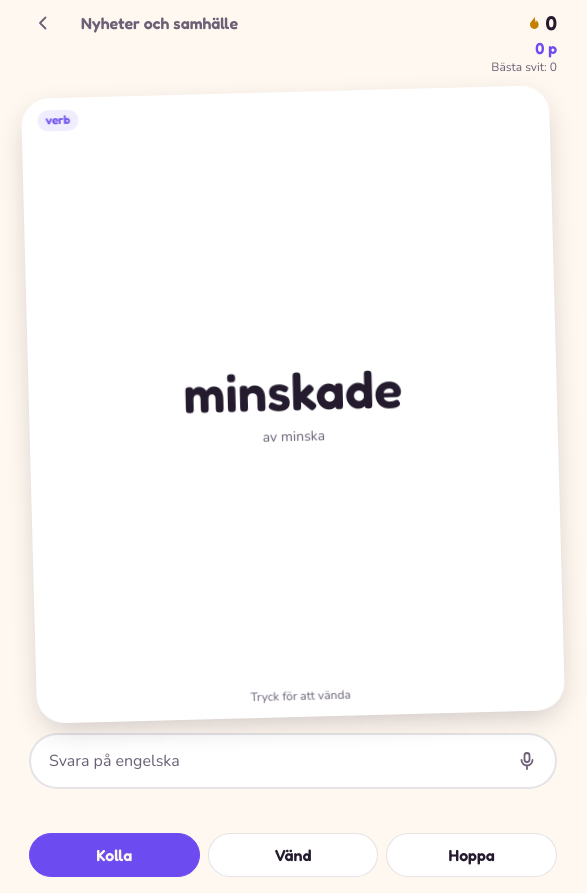
Test case: Play › marks "increased" for "minskade" wrong rather than close
Click the field. click: (273, 761)
box: x1=47 y1=735 x2=499 y2=787
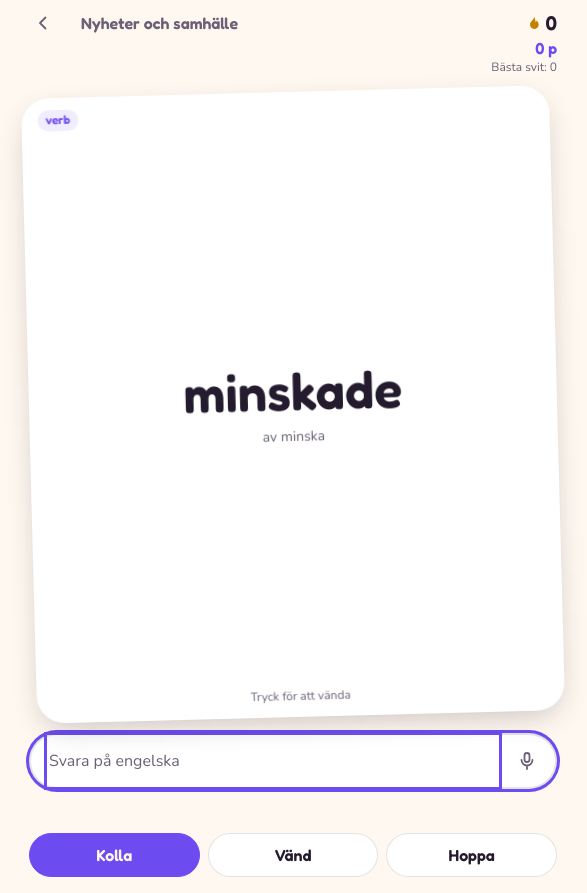
Type keys "increased{Enter}"
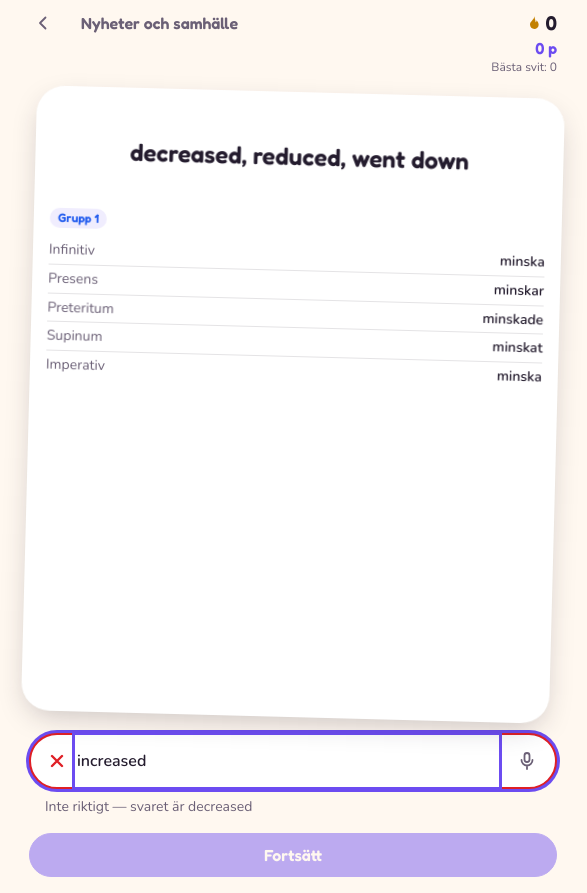
Now the text "Inte riktigt — svaret är decreased" is shown, box x1=45 y1=797 x2=252 y2=816
